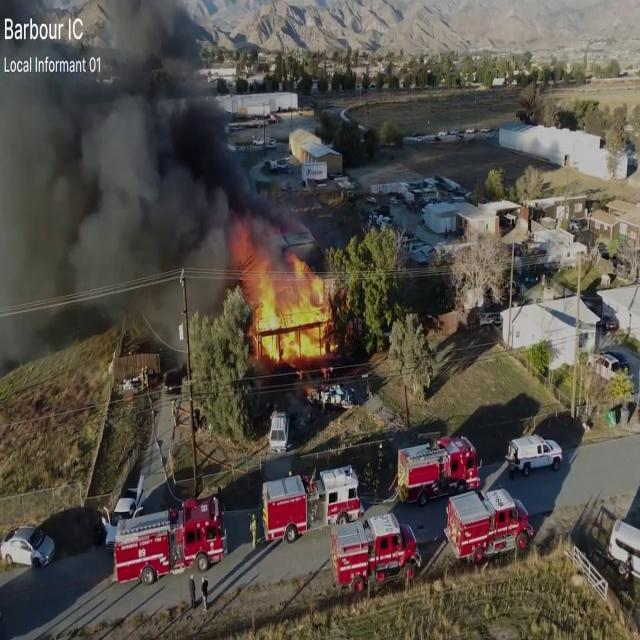Fire: (224, 238, 336, 366)
Smoke: (0, 1, 266, 360)
